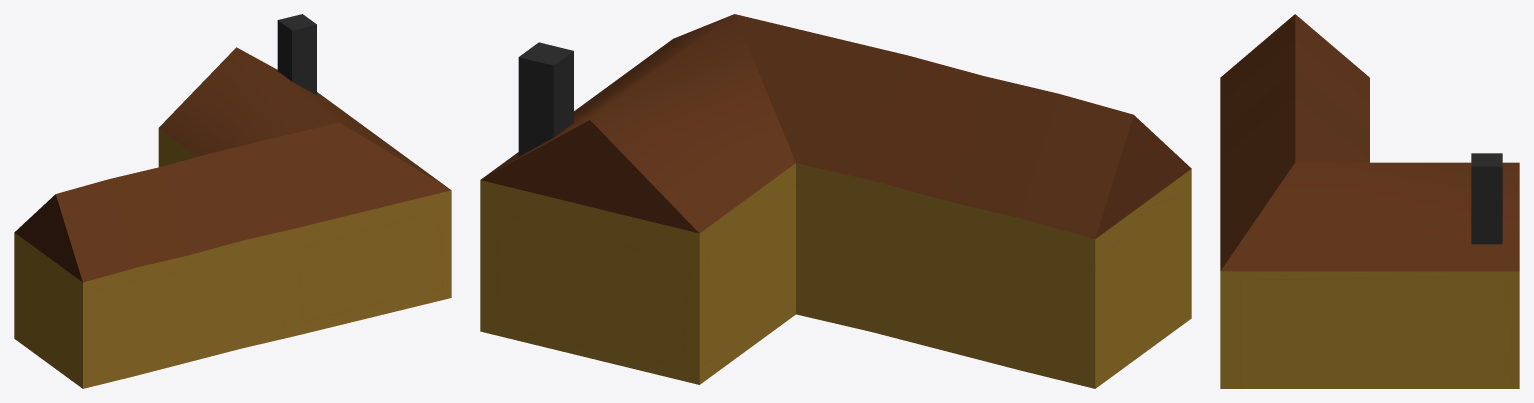
File: House 2 Asset.fbx
The picture shows the model from 3 angles, left to right: view 1: azimuth 30°, elevation 25°; view 2: azimuth 150°, elevation 25°; view 3: azimuth 270°, elevation 25°; orthographic projection. The views are drawn at different scales.
Parts seen in each view (by area): view 1: Box001; view 2: Box001; view 3: Box001.
Boxes of the visible parts, x1,y1,x2,y2 form: Box001: (14, 14, 451, 388); Box001: (480, 14, 1191, 388); Box001: (1220, 14, 1519, 388).
Size of the model in its own units: 187 by 94.81 by 121.
Materials: 1 (1 with a texture image).
